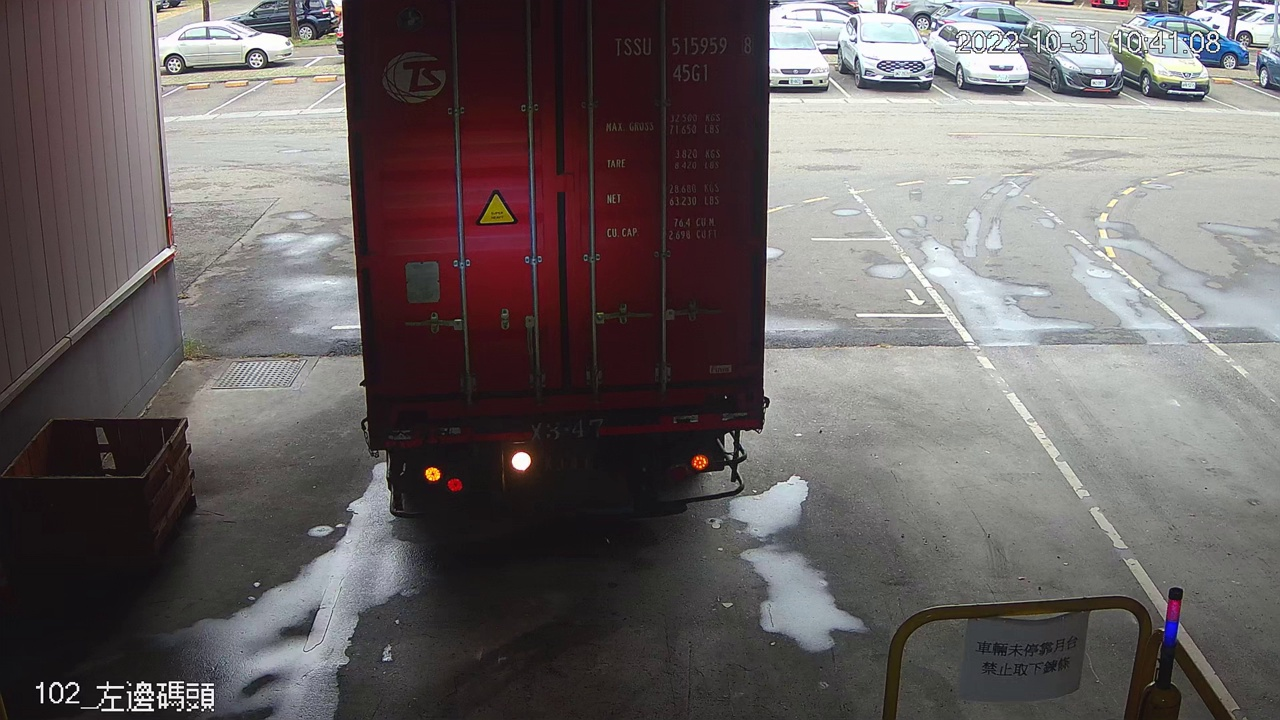container: (608, 27, 757, 91)
